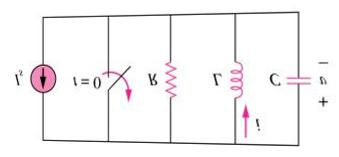resistor: (158, 52, 184, 107)
